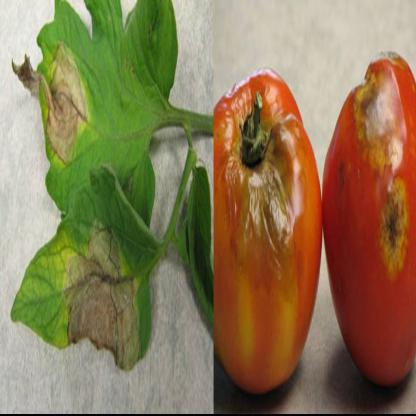tomato leaf late blight: (2, 164, 168, 404), (9, 6, 191, 215)
